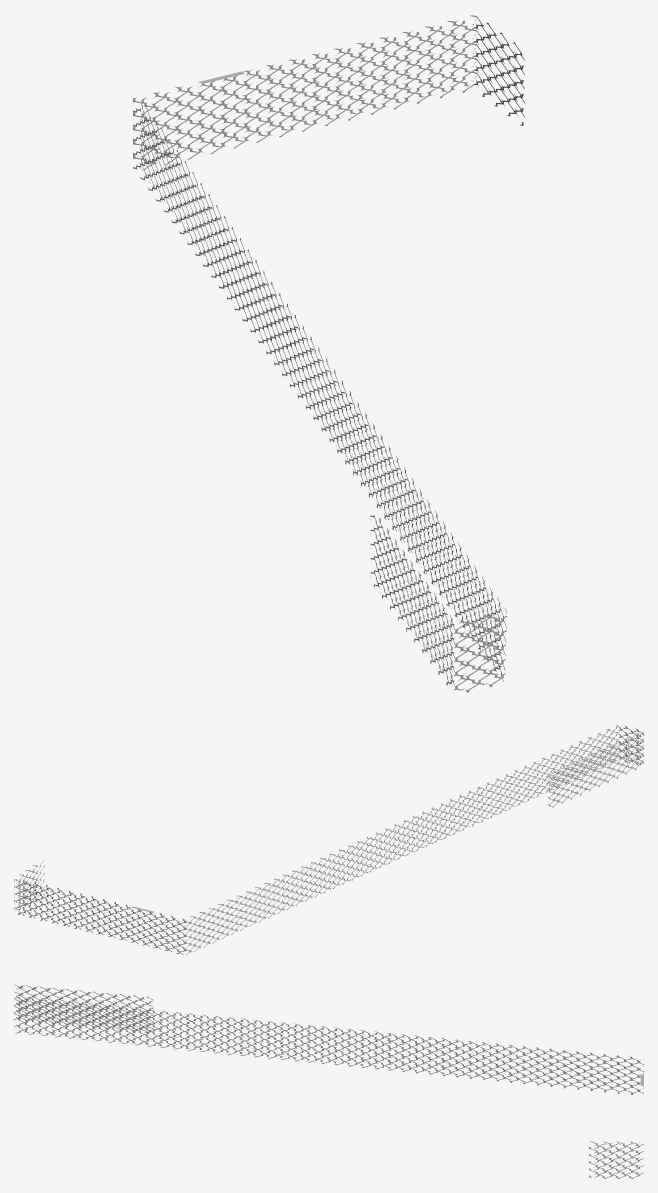
Rendered from backcoolfence.fbx.
3 renders of one model, top to bottom at view 1: azimuth 30°, elevation 25°; view 2: azimuth 150°, elevation 25°; view 3: azimuth 270°, elevation 25°, orthographic. The views are drawn at different scales.
Parts seen in each view (by area): view 1: pCube349; view 2: pCube349; view 3: pCube349.
Boxes of the visible parts, x1,y1,x2,y2 form: pCube349: (133, 15, 524, 692); pCube349: (14, 725, 643, 955); pCube349: (14, 984, 643, 1178).
Size of the model in its own units: 57.84 by 6.21 by 96.8.
1 material, 1 textured.
